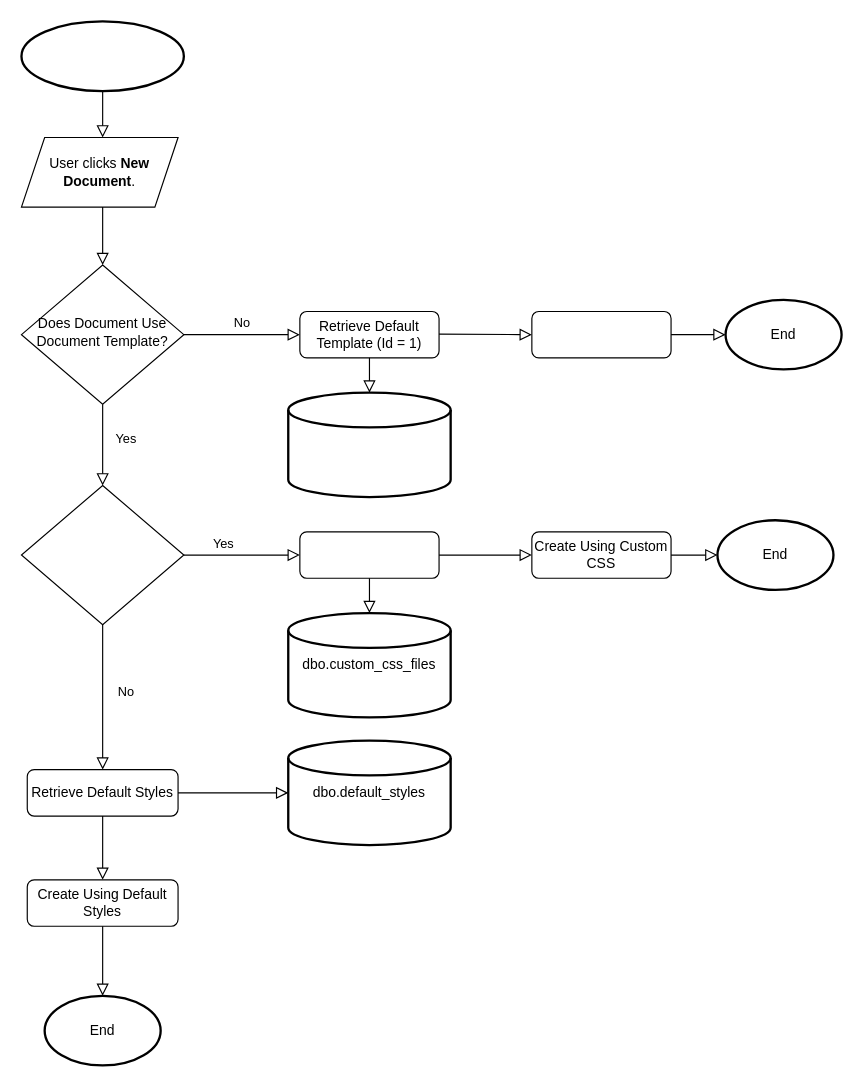
Some shapes in this 862 by 1086 pixel diagram are drawn without their labels. Each missing label, with the centre of its shape:
"Create Using Default Template" belongs at [601,334].
"dbo.document_templates" belongs at [369,444].
"Does Template Use Custom CSS?" belongs at [102,554].
"Retrieve Custom CSS" belongs at [369,554].
"Start" belongs at [102,56].
